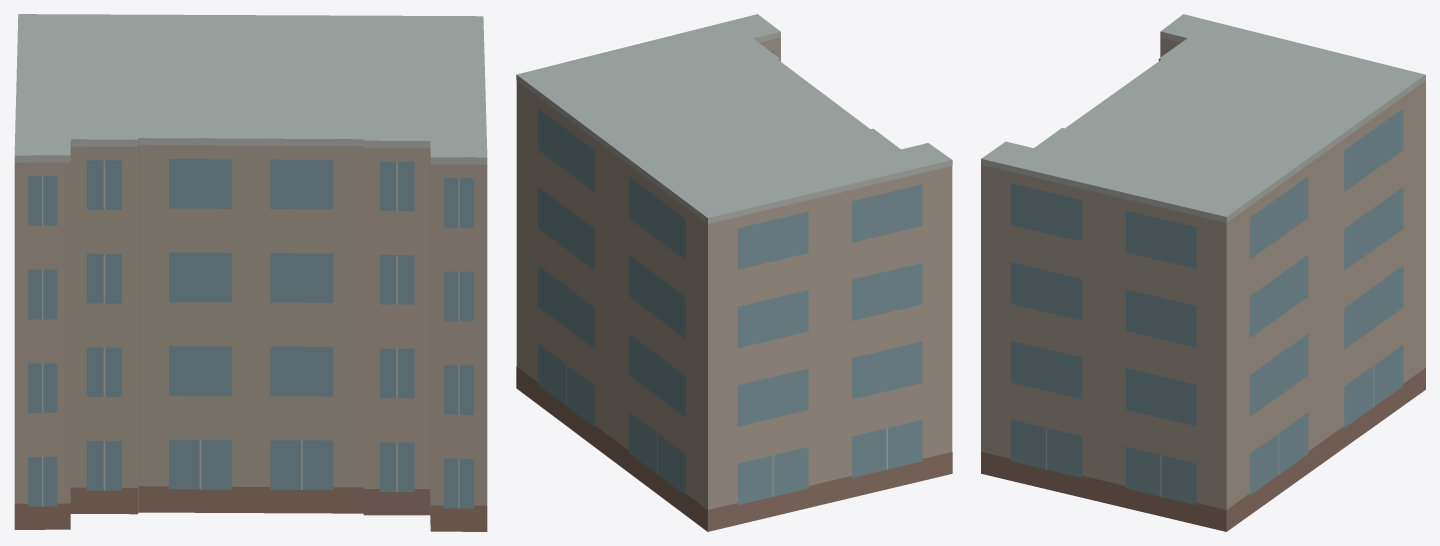
The model's file is survey-upis-32964772.glb.
3 renders of one model, left to right at view 1: azimuth 30°, elevation 25°; view 2: azimuth 150°, elevation 25°; view 3: azimuth 270°, elevation 25°, orthographic. The views are drawn at different scales.
Parts seen in each view (by area): view 1: survey-upis-32964772.tmp; view 2: survey-upis-32964772.tmp; view 3: survey-upis-32964772.tmp.
Part boxes in pixels (bbox=[...]): survey-upis-32964772.tmp: bbox=[14, 14, 487, 531]; survey-upis-32964772.tmp: bbox=[516, 14, 952, 531]; survey-upis-32964772.tmp: bbox=[981, 14, 1425, 531].
Bounding box in the file's own units: 17.98 × 13 × 16.65.
